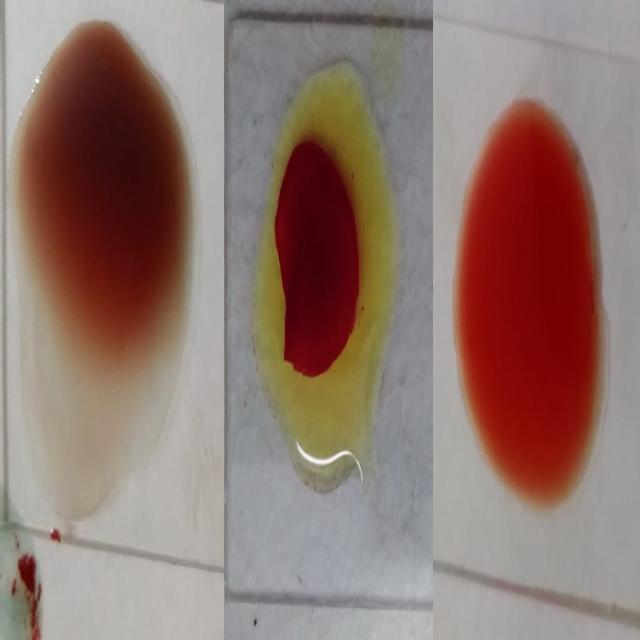B: (259, 65, 397, 488)
